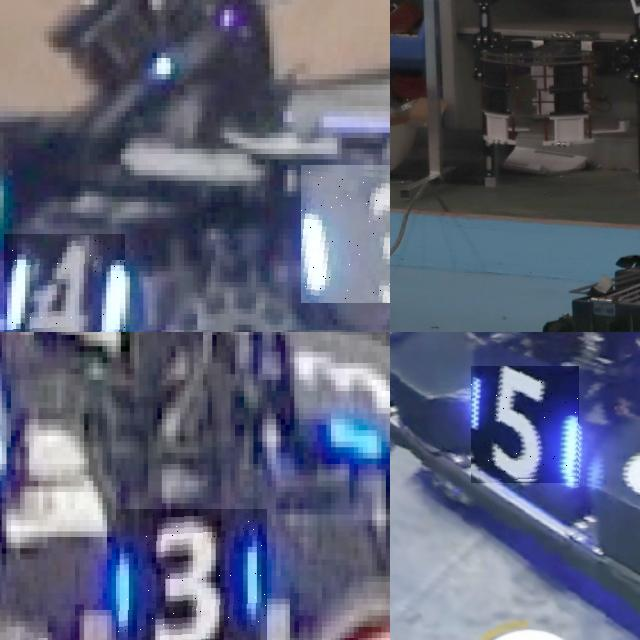B3: (116, 509, 267, 640), (300, 164, 390, 303)
B4: (3, 233, 125, 332)
B5: (471, 366, 579, 484)
